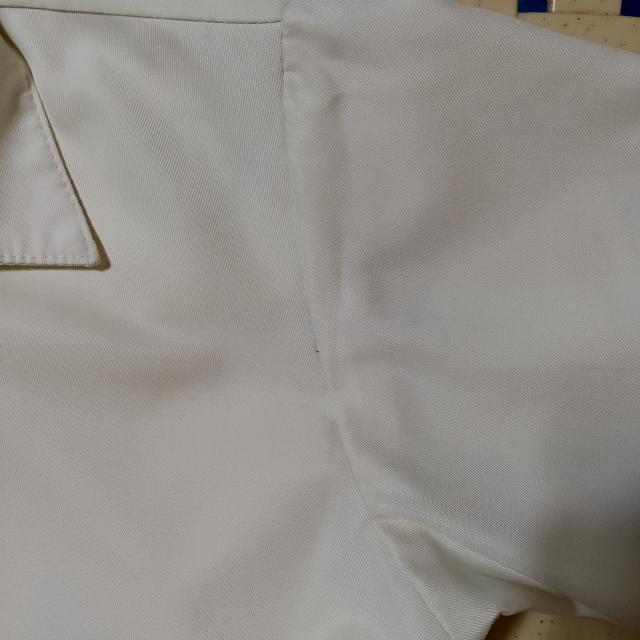education_male_uniform: (302, 2, 640, 632), (0, 17, 295, 632)
